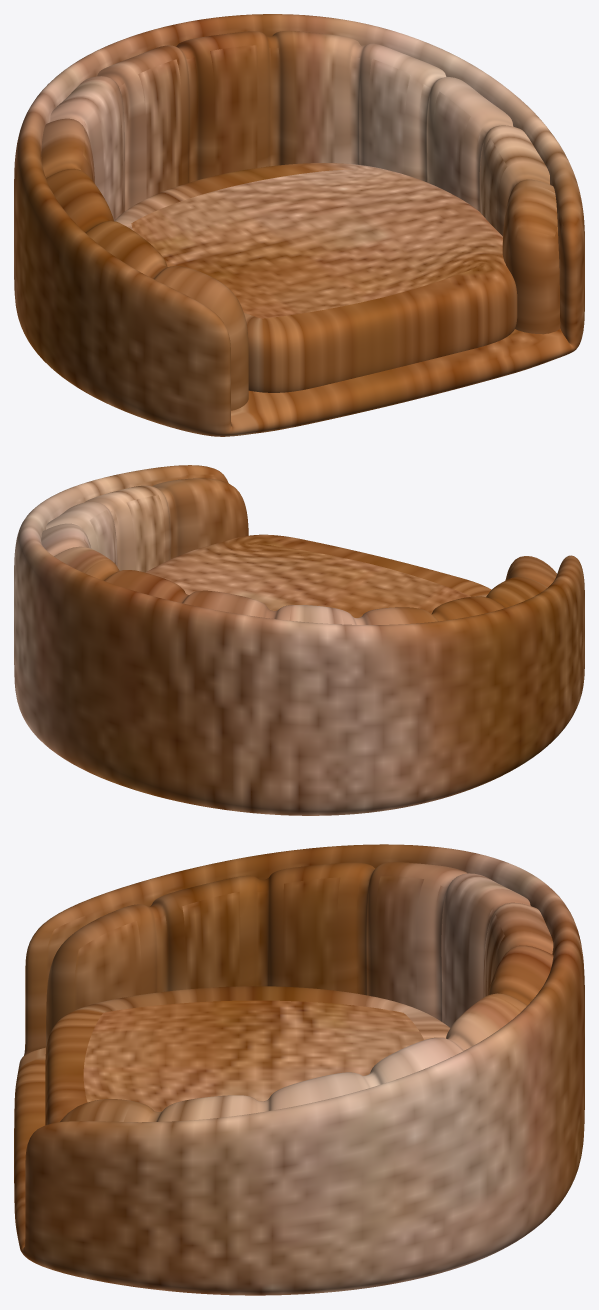
The model's file is sofa.glb.
3 renders of one model, top to bottom at view 1: azimuth 30°, elevation 25°; view 2: azimuth 150°, elevation 25°; view 3: azimuth 270°, elevation 25°, orthographic. The views are drawn at different scales.
Parts seen in each view (by area): view 1: Cube.001, Cube, Cube.002; view 2: Cube, Cube.001, Cube.002; view 3: Cube, Cube.001, Cube.002.
Boxes of the visible parts, left/top/right/bottom form: Cube.001: left=41, top=31, right=560, bottom=410; Cube: left=14, top=14, right=584, bottom=436; Cube.002: left=114, top=163, right=517, bottom=392; Cube: left=14, top=465, right=584, bottom=815; Cube.001: left=41, top=478, right=556, bottom=624; Cube.002: left=145, top=534, right=491, bottom=617; Cube: left=14, top=844, right=584, bottom=1295; Cube.001: left=46, top=862, right=553, bottom=1122; Cube.002: left=45, top=986, right=450, bottom=1125.
Bounding box in the file's own units: 1.79 × 0.7257 × 1.59.
2 materials, 2 textured.
